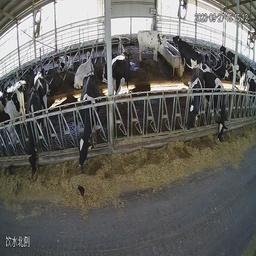cow: (69, 65, 106, 178), (181, 60, 204, 152), (203, 58, 226, 144), (26, 86, 46, 179), (134, 22, 171, 68), (171, 30, 203, 73), (111, 47, 135, 104), (73, 47, 93, 90), (32, 68, 51, 104), (219, 40, 235, 74), (54, 49, 71, 75)
